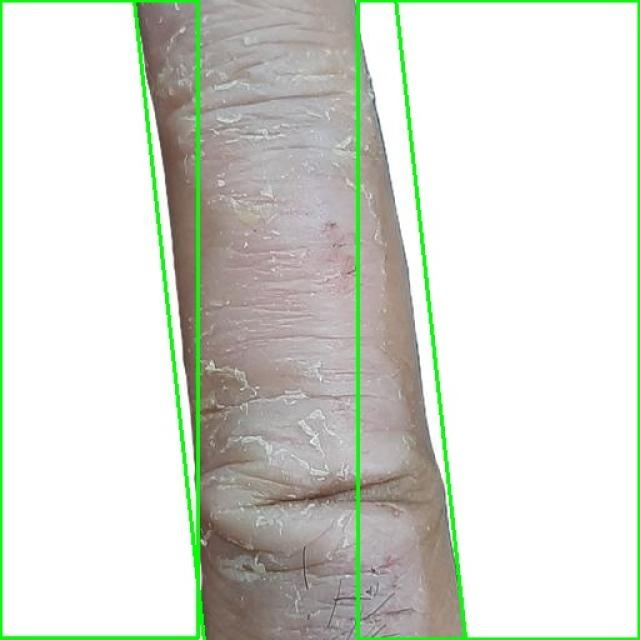Eczema: (134, 0, 465, 640), (358, 0, 639, 639), (0, 0, 199, 639)
